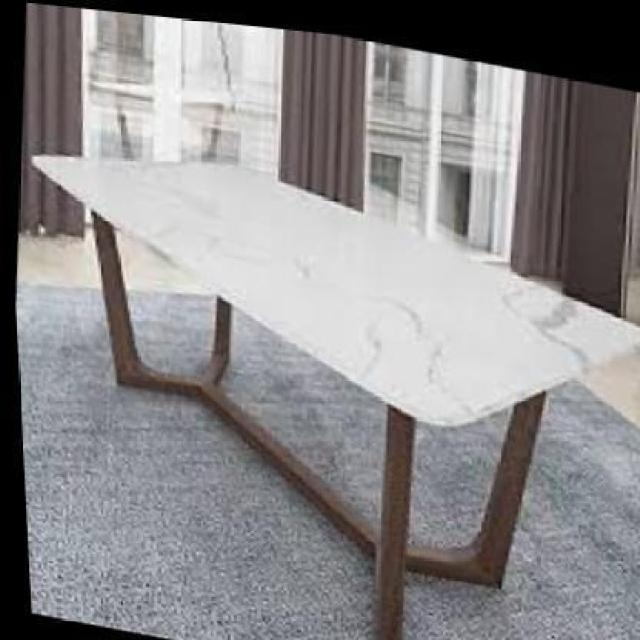tables: (29, 151, 638, 638)
